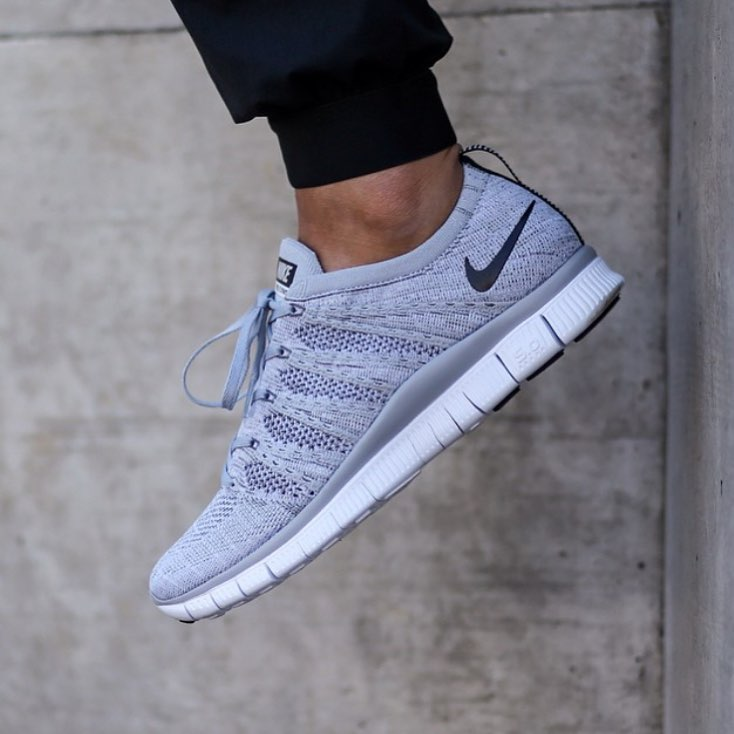sneaker: (124, 100, 654, 664)
